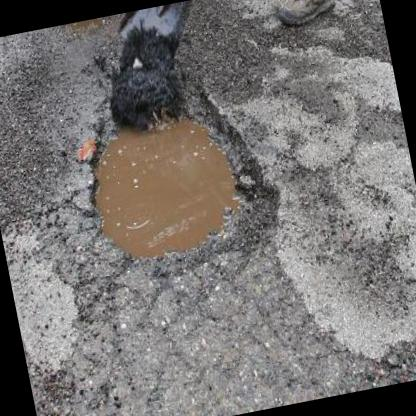pothole: (65, 58, 294, 300)
